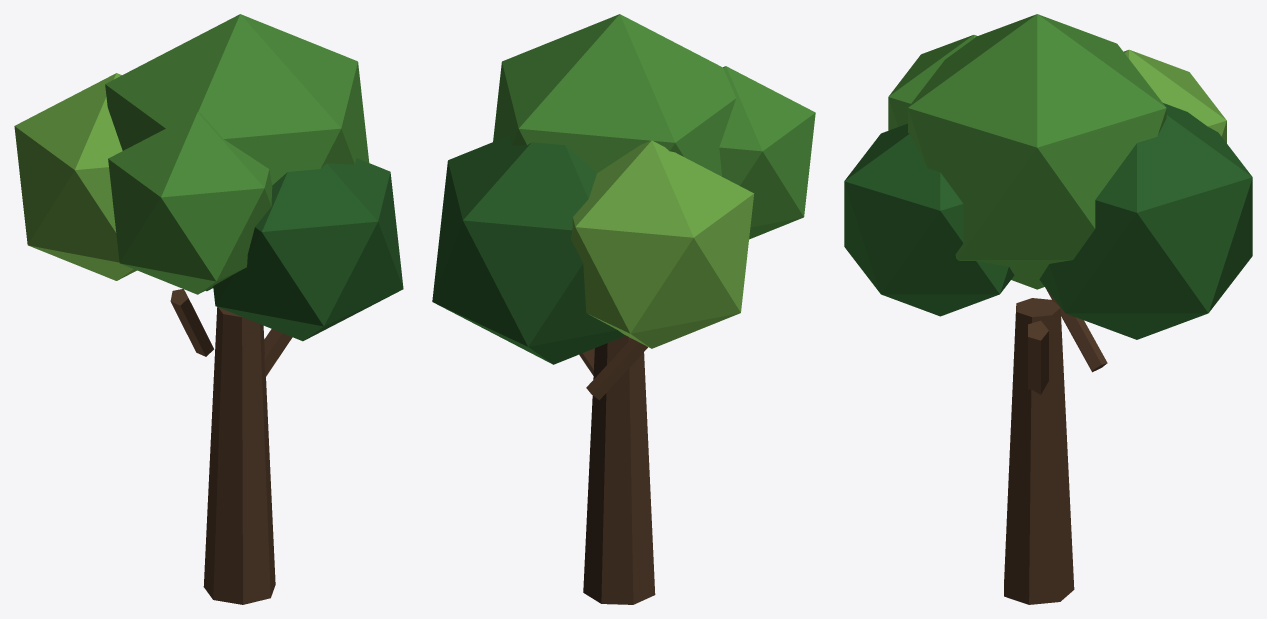
Rendered from SM_GZ_tree_oak_1.fbx.
3 views of the same model, side by side, from view 1: azimuth 30°, elevation 25°; view 2: azimuth 150°, elevation 25°; view 3: azimuth 270°, elevation 25° (orthographic).
Parts seen in each view (by area): view 1: SM_GZ_tree_oak_1; view 2: SM_GZ_tree_oak_1; view 3: SM_GZ_tree_oak_1.
Part boxes in pixels (box(x1,y1,x2,y2)): SM_GZ_tree_oak_1: box(14, 14, 403, 604); SM_GZ_tree_oak_1: box(432, 14, 815, 604); SM_GZ_tree_oak_1: box(844, 14, 1252, 604).
Size of the model in its own units: 343 by 653 by 420.
